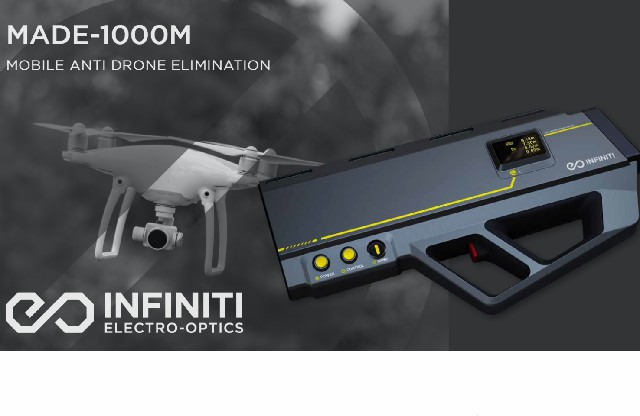maybay_khongnguoilai: (35, 116, 291, 265)
